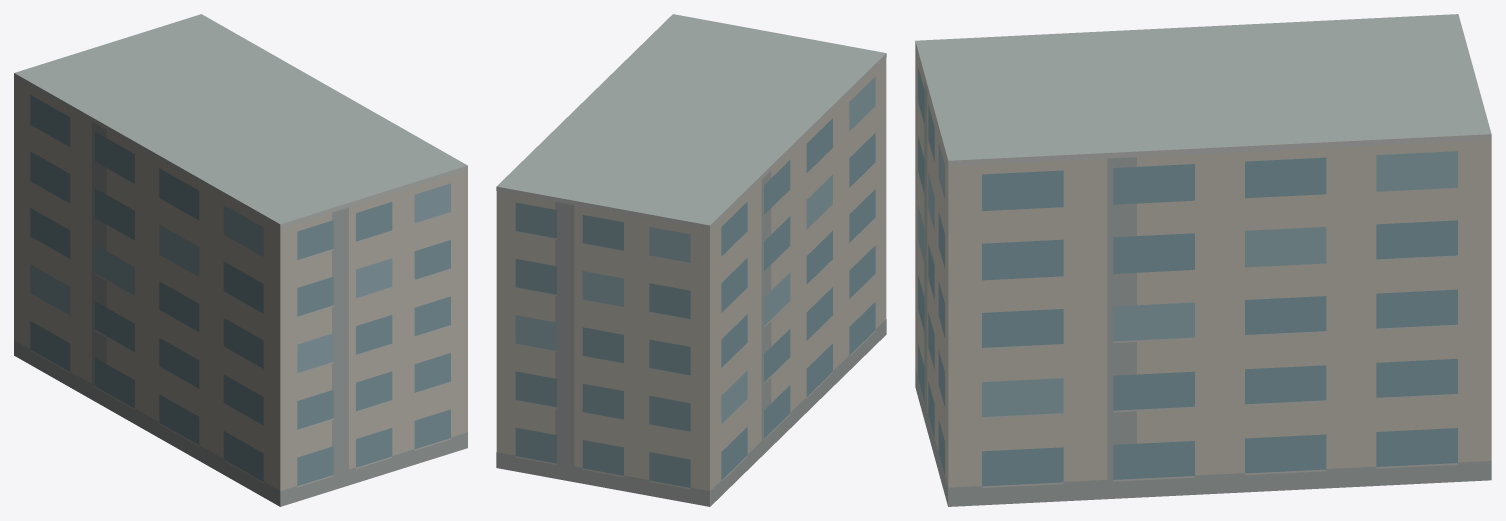
The model's file is residential-31cbcc37-10d2-4374-bab4-befa65f5c614.glb.
3 renders of one model, left to right at view 1: azimuth 30°, elevation 25°; view 2: azimuth 150°, elevation 25°; view 3: azimuth 270°, elevation 25°, orthographic. The views are drawn at different scales.
Visible parts, largest first — view 1: residential-31cbcc37-10d2-4374-bab4-befa65f5c614.tmp; view 2: residential-31cbcc37-10d2-4374-bab4-befa65f5c614.tmp; view 3: residential-31cbcc37-10d2-4374-bab4-befa65f5c614.tmp.
Boxes of the visible parts, x1=… form: residential-31cbcc37-10d2-4374-bab4-befa65f5c614.tmp: x1=14, y1=14, x2=467, y2=506; residential-31cbcc37-10d2-4374-bab4-befa65f5c614.tmp: x1=496, y1=14, x2=886, y2=506; residential-31cbcc37-10d2-4374-bab4-befa65f5c614.tmp: x1=915, y1=14, x2=1491, y2=506.
Size of the model in its own units: 13.88 by 15.25 by 23.02.
